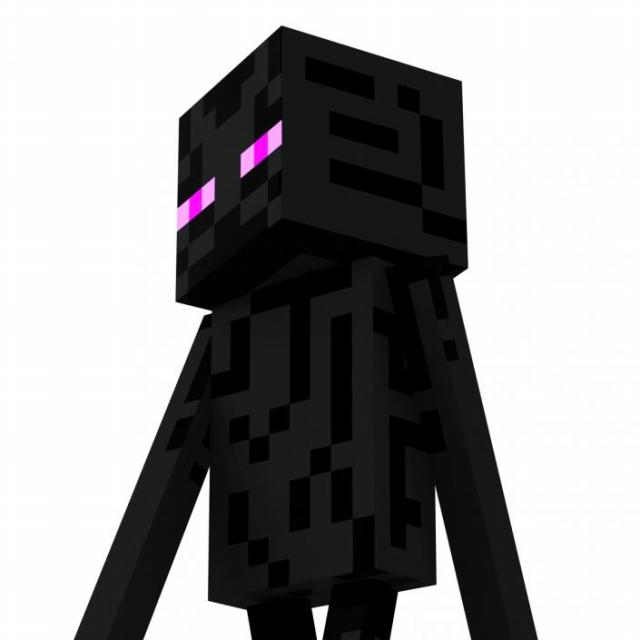Enderman: (64, 22, 538, 640)
